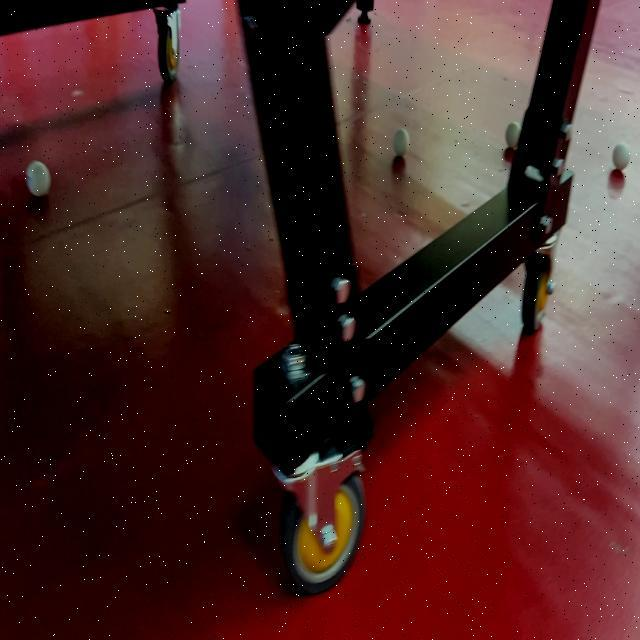ping-pong-ball: (610, 140, 632, 172), (391, 125, 412, 158), (504, 118, 522, 148)
